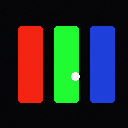0 point: (71, 72, 79, 80)
